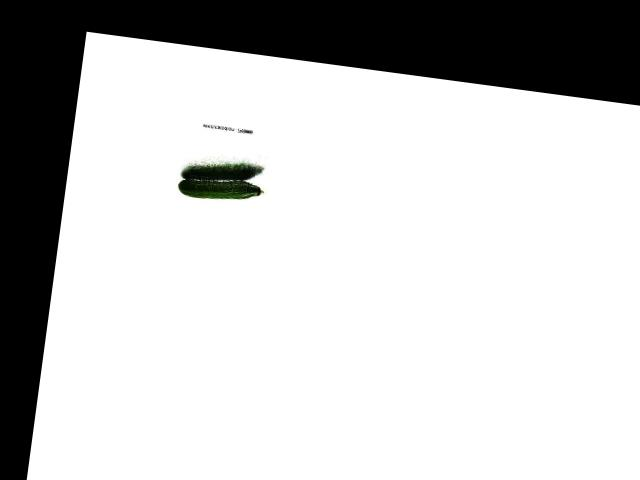cucumber: (178, 172, 265, 206)
